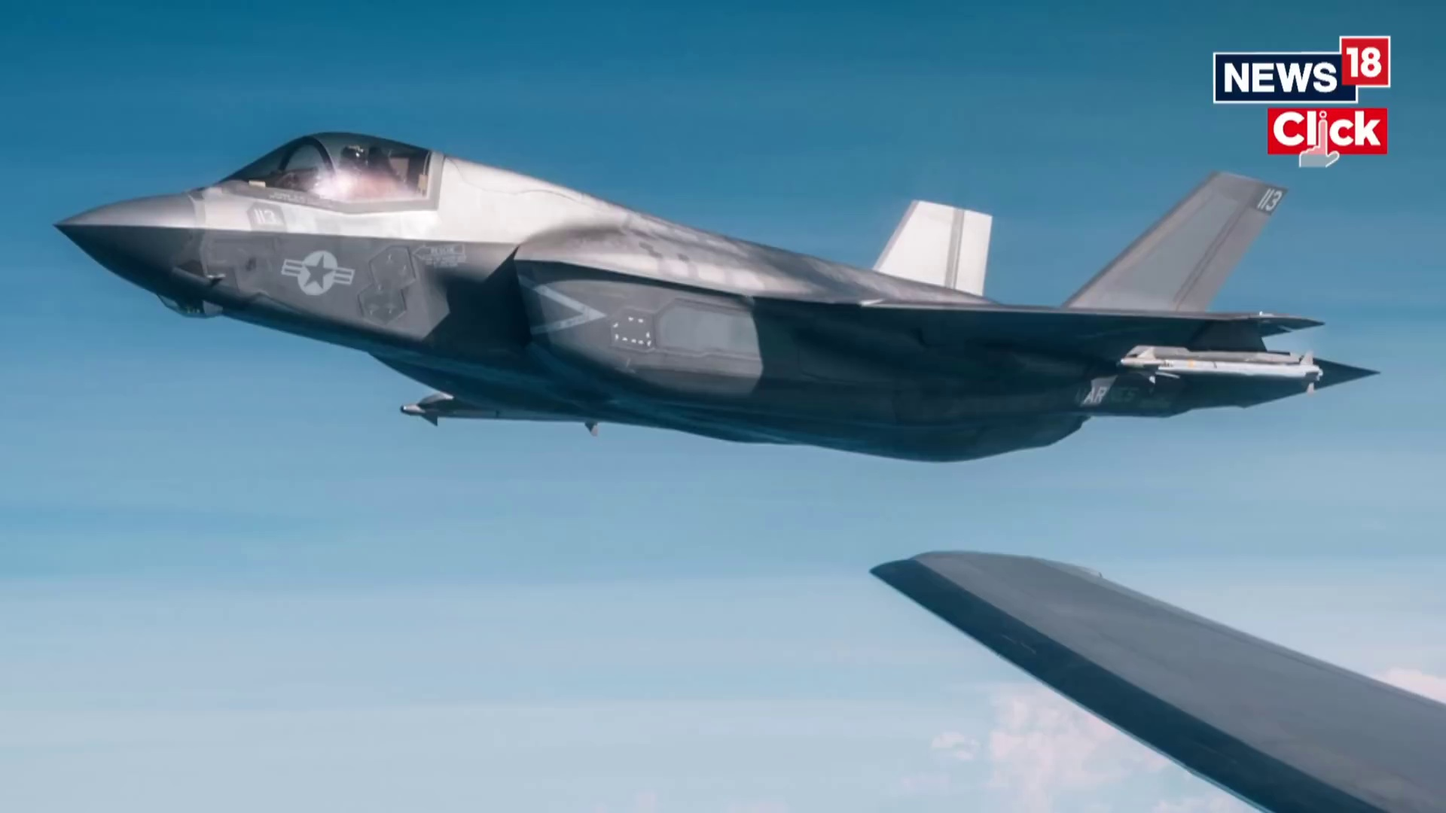F35: (44, 121, 1389, 478)
